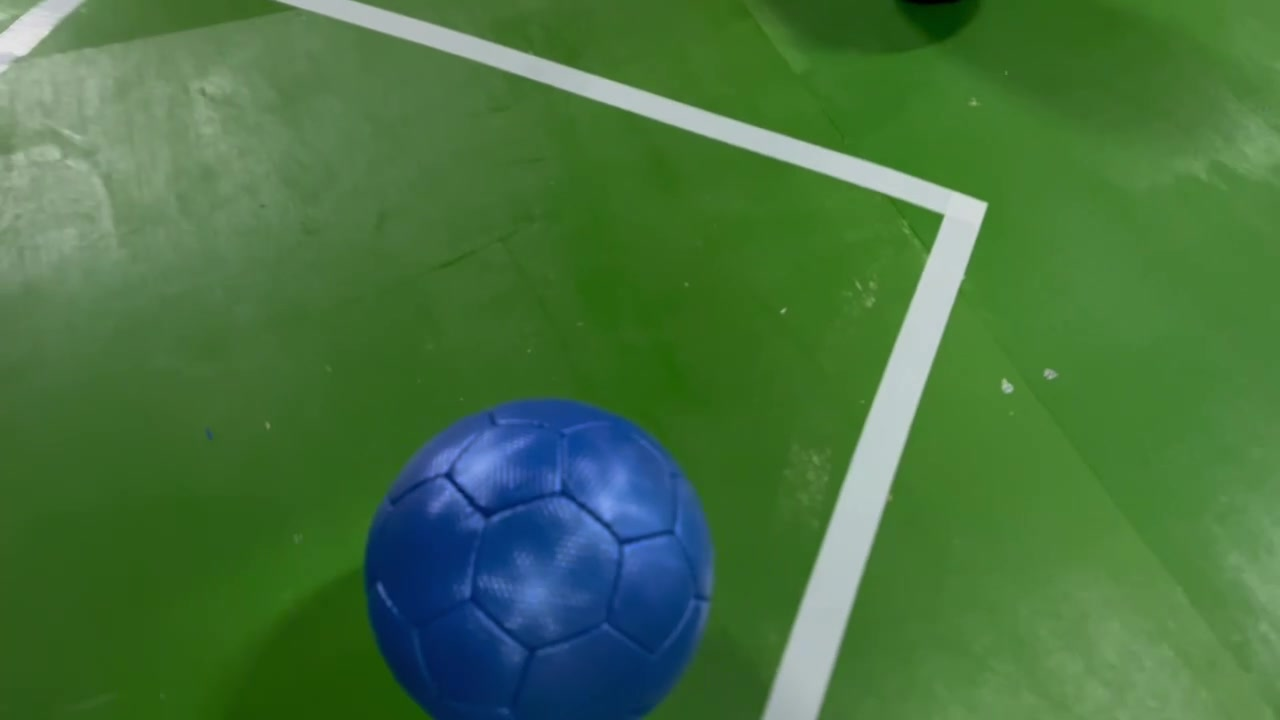blue: (350, 393, 742, 720)
